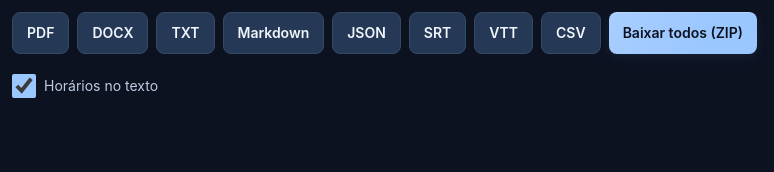
Scenario: hides the speaker option without speakers and explains export failures
Click the button "PDF". click: coordinates (41, 33)
box: [12,12,69,54]
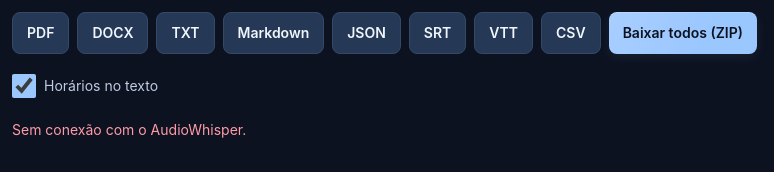
Check: the message reads "Sem conexão com o AudioWhisper.", box [12,121,246,138]
